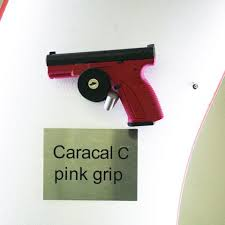gun: (46, 42, 167, 128)
